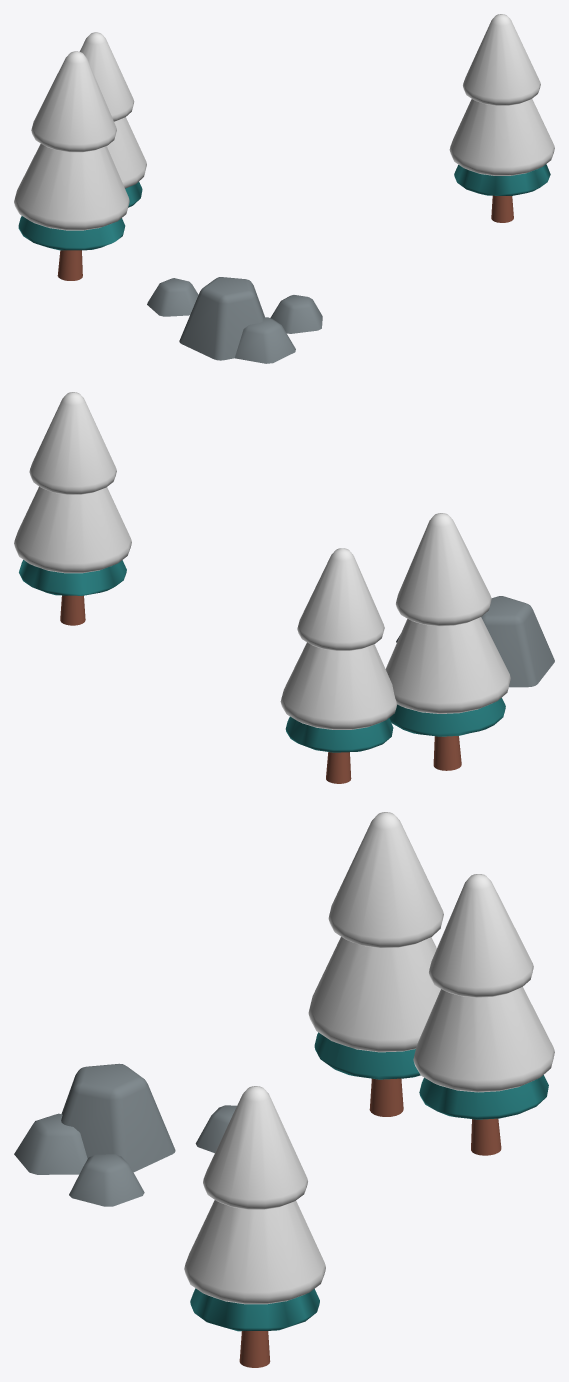
File: detail_forestB_snow.gltf.glb
3 views of the same model, one above another, from view 1: azimuth 30°, elevation 25°; view 2: azimuth 150°, elevation 25°; view 3: azimuth 270°, elevation 25° (orthographic). The views are drawn at different scales.
Visible parts, largest first — view 1: detail_forestB_snow; view 2: detail_forestB_snow; view 3: detail_forestB_snow.
Boxes of the visible parts, box(x1,y1,x2,y2) form: detail_forestB_snow: box(14, 14, 554, 363); detail_forestB_snow: box(14, 392, 554, 783); detail_forestB_snow: box(14, 812, 554, 1367).
Bounding box in the file's own units: 1.88 × 0.8473 × 1.37.
